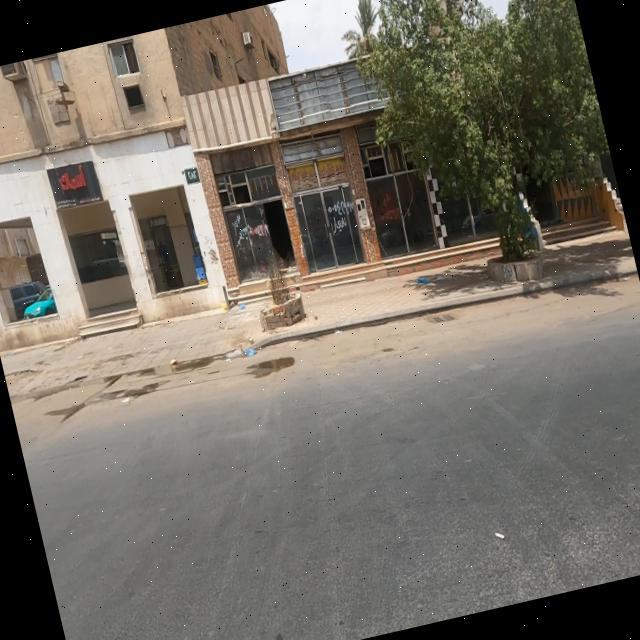Graffiti: (229, 207, 273, 259), (325, 200, 361, 238), (372, 193, 402, 231)
